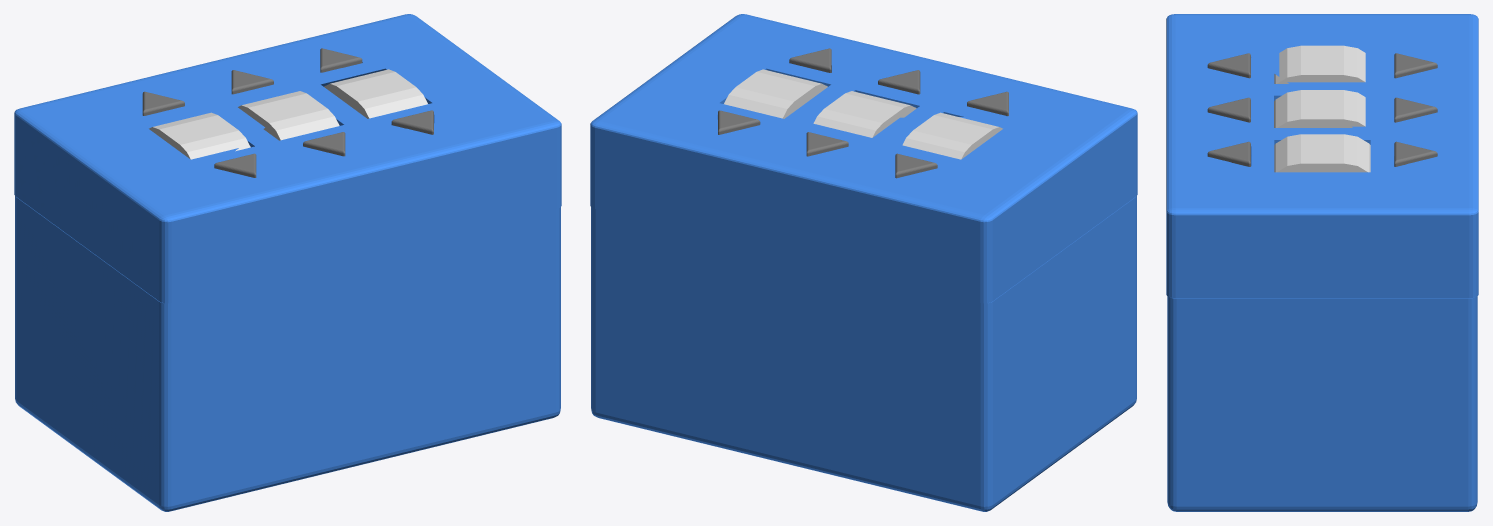
3 views of the same model, side by side, from view 1: azimuth 30°, elevation 25°; view 2: azimuth 150°, elevation 25°; view 3: azimuth 270°, elevation 25° (orthographic). The views are drawn at different scales.
Visible parts, largest first — view 1: Cube, Cube.001, Cube.005, Cube.003, Cube.007, Cylinder.008, Cylinder, Cylinder.001, Cylinder.004, Cylinder.010, Cylinder.006; view 2: Cube, Cube.001, Cube.005, Cube.003, Cube.007, Cylinder.006, Cylinder.001, Cylinder, Cylinder.008, Cylinder.004, Cylinder.010; view 3: Cube.001, Cube, Cube.005, Cube.003, Cube.007, Cylinder, Cylinder.004, Cylinder.008, Cylinder.006, Cylinder.001, Cylinder.010.
Boxes of the visible parts, box(x1,y1,x2,y2) form: Cube: box(15, 196, 560, 511); Cube.001: box(14, 14, 561, 303); Cube.005: box(324, 69, 427, 118); Cube.003: box(238, 91, 339, 140); Cube.007: box(149, 112, 250, 159); Cylinder.008: box(142, 91, 184, 115); Cylinder: box(231, 70, 273, 94); Cylinder.001: box(303, 132, 345, 156); Cylinder.004: box(320, 48, 362, 72); Cylinder.010: box(214, 153, 256, 177); Cylinder.006: box(391, 110, 433, 134); Cube: box(591, 196, 1136, 511); Cube.001: box(590, 14, 1137, 303); Cube.005: box(724, 69, 827, 118); Cube.003: box(813, 91, 916, 137); Cube.007: box(902, 112, 1002, 159); Cylinder.006: box(789, 48, 831, 72); Cylinder.001: box(878, 70, 920, 94); Cylinder: box(806, 132, 848, 156); Cylinder.008: box(895, 153, 937, 178); Cylinder.004: box(718, 110, 760, 134); Cylinder.010: box(967, 91, 1008, 116); Cube.001: box(1166, 14, 1478, 298); Cube: box(1167, 296, 1477, 511); Cube.005: box(1274, 134, 1370, 172); Cube.003: box(1274, 90, 1365, 127); Cube.007: box(1274, 45, 1365, 83); Cylinder: box(1394, 97, 1437, 122); Cylinder.004: box(1394, 141, 1437, 166); Cylinder.008: box(1394, 53, 1437, 78); Cylinder.006: box(1207, 141, 1250, 166); Cylinder.001: box(1207, 97, 1250, 122); Cylinder.010: box(1207, 53, 1250, 78).
Size of the model in its own units: 397 by 287 by 262.
